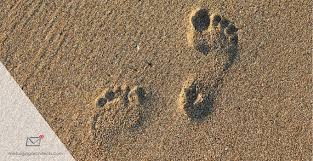human_foot_print: (61, 5, 258, 157)
